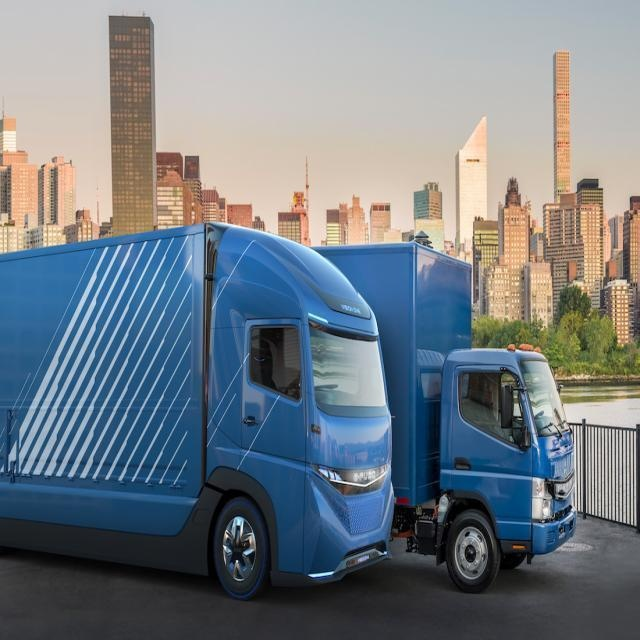Truck: (0, 218, 395, 594), (309, 239, 576, 582)
